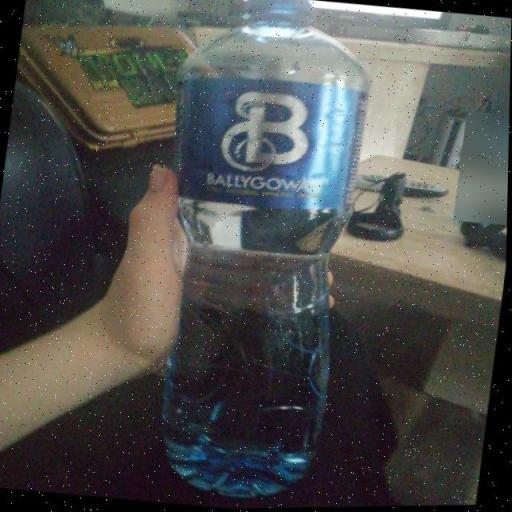plastic: (162, 0, 370, 501)
